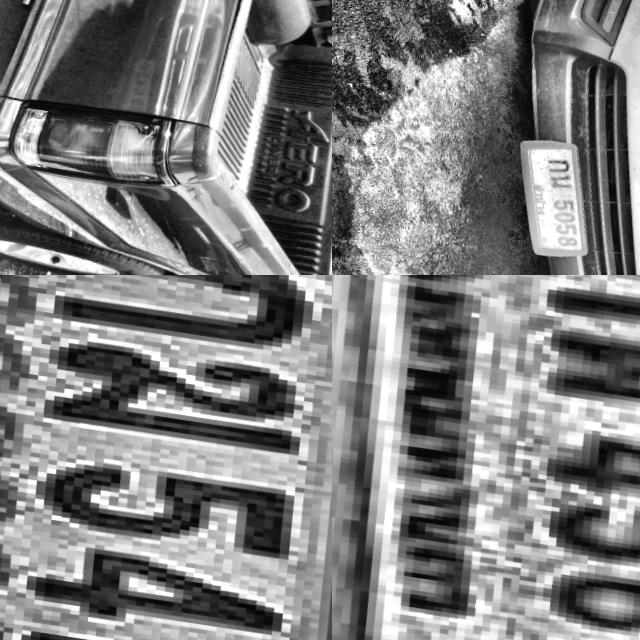license-plate: (0, 275, 332, 640), (332, 275, 640, 640), (497, 133, 604, 266)
